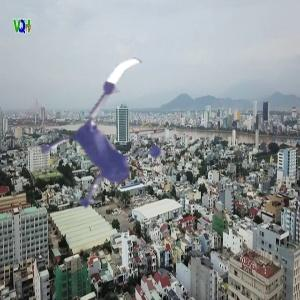drone: (27, 55, 212, 240)
